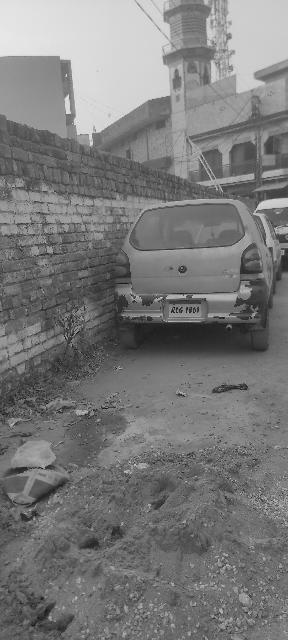Number: (170, 306, 201, 315)
